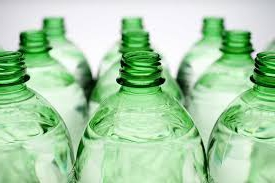plastic water bottle: (77, 50, 207, 183), (1, 47, 72, 183), (205, 48, 275, 183)
